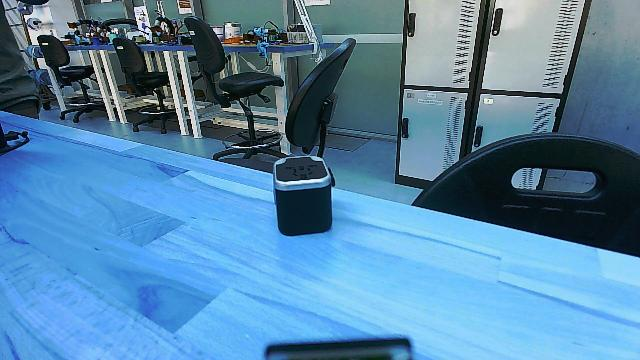adapter: (268, 152, 342, 244)
